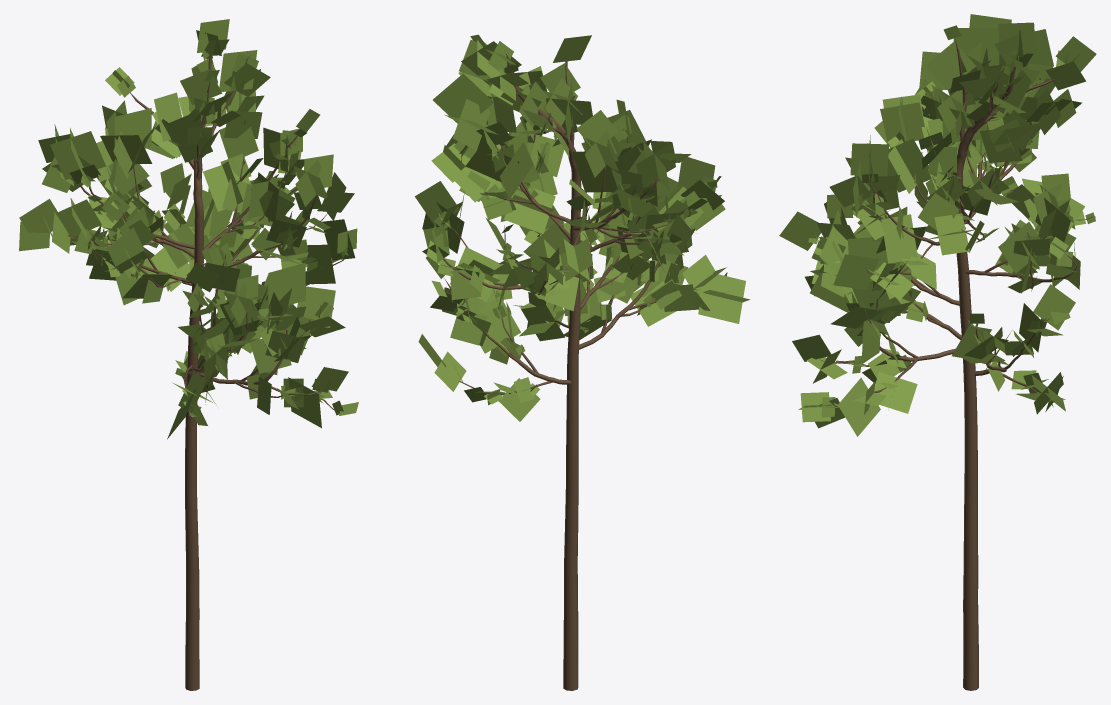
Rendered from meadow-aspen-a.glb.
3 renders of one model, left to right at view 1: azimuth 30°, elevation 25°; view 2: azimuth 150°, elevation 25°; view 3: azimuth 270°, elevation 25°, orthographic. The views are drawn at different scales.
Parts seen in each view (by area): view 1: leaves, bark; view 2: leaves, bark; view 3: leaves, bark.
Part boxes in pixels (box(x1,y1,x2,y2)): leaves: box(19, 19, 358, 439); bark: box(70, 56, 345, 690); leaves: box(415, 34, 750, 421); bark: box(443, 56, 696, 690); leaves: box(779, 14, 1096, 436); bark: box(817, 39, 1086, 690).
Bounding box in the file's own units: 32.08 × 68.42 × 28.59.
